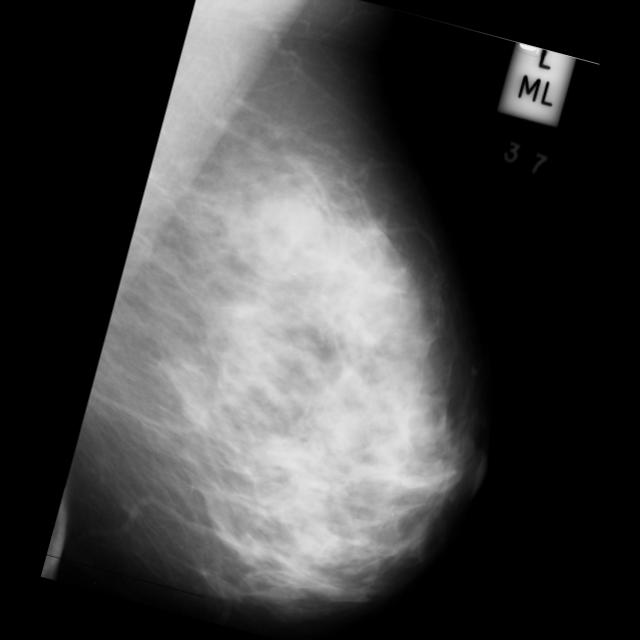ASYM: (334, 15, 578, 368)
